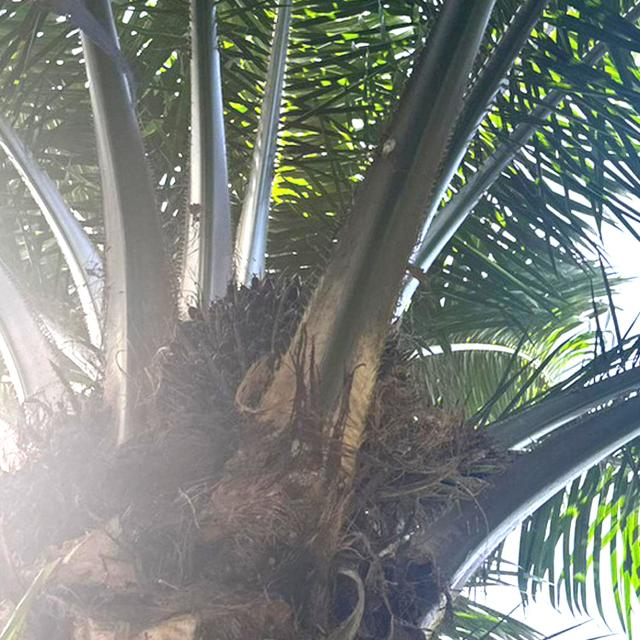ripe: (146, 249, 434, 467)
